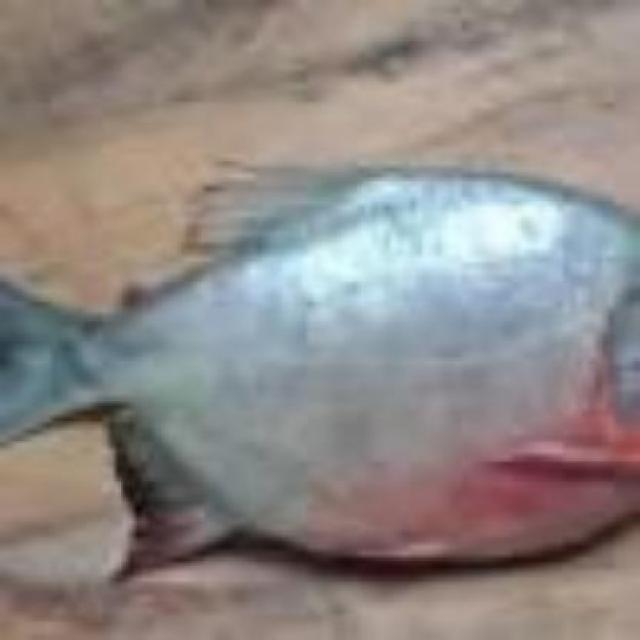ikan-pacu: (0, 172, 628, 560)
